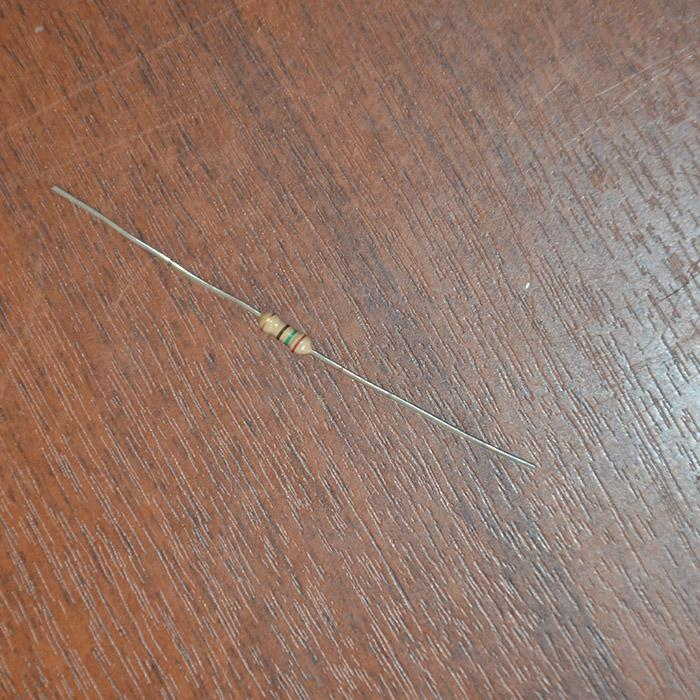resistor: (257, 311, 312, 356)
